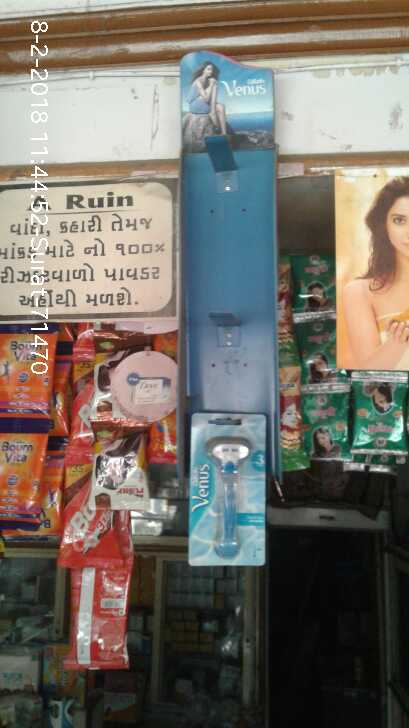venus: (187, 411, 273, 568)
